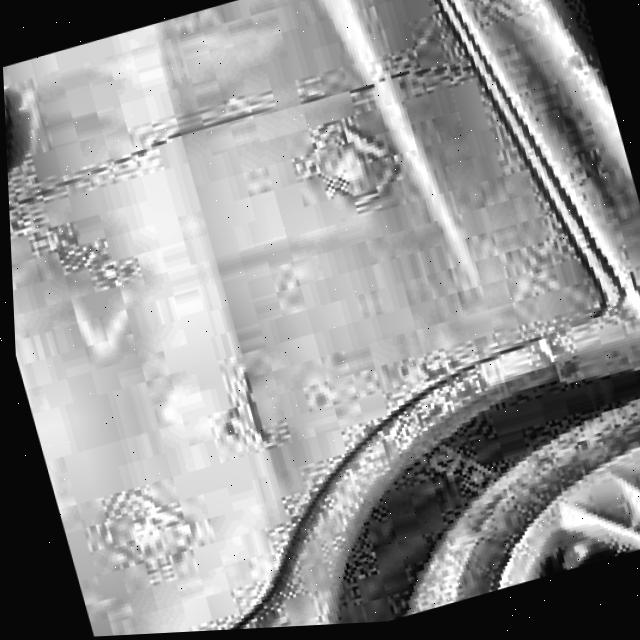door_scratch: (340, 301, 597, 482), (182, 548, 304, 632), (203, 360, 285, 461)
